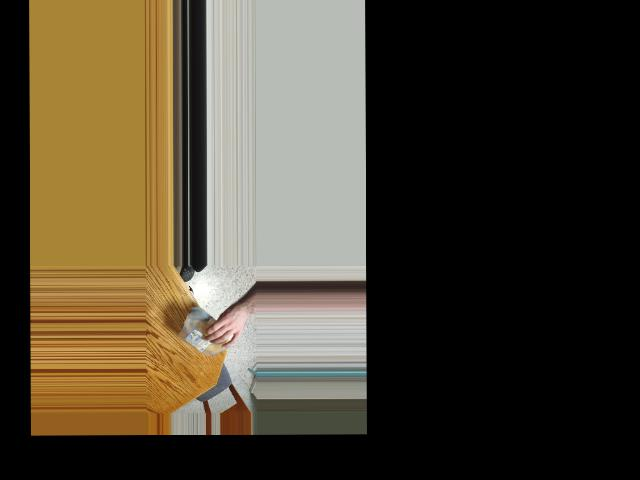cheese: (177, 313, 236, 359)
